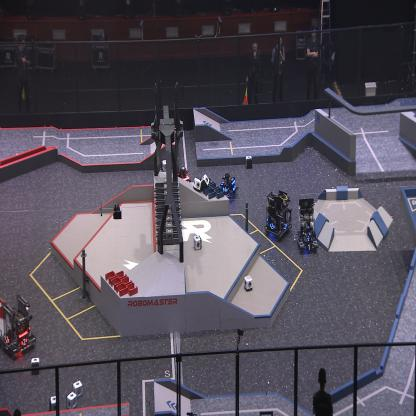car: (0, 293, 36, 361), (265, 189, 292, 241), (295, 198, 318, 251), (172, 166, 194, 200), (217, 173, 238, 204)
